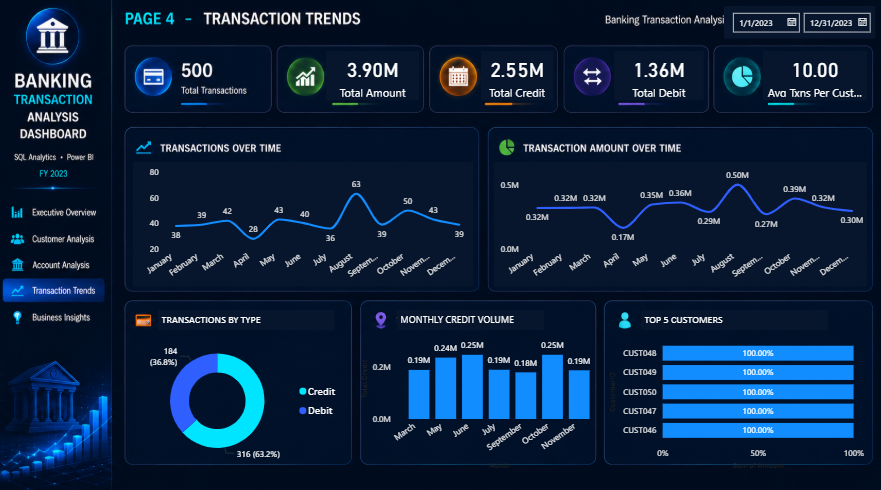

The dashboard page shown, as its layout file describes it:
{"tool":"powerbi","page":{"name":"Page 4","canvas":[1280,720],"ordinal":3},"visuals":[{"type":"lineChart","fields":{"Category":["banking_transactions.Month"],"Y":["CountNonNull(banking_transactions.TransactionID)"]},"box":[195.8,237.6,489.6,178.6],"z":0},{"type":"lineChart","fields":{"Category":["banking_transactions.Month"],"Y":["Sum(banking_transactions.Amount)"]},"box":[715.7,237.6,537.1,178.6],"z":1000},{"type":"donutChart","fields":{"Category":["banking_transactions.TransactionType"],"Y":["CountNonNull(banking_transactions.TransactionID)"]},"box":[196.5,478.7,305.7,206.6],"z":2000},{"type":"textbox","box":[231.8,450.2,253.6,28.6],"z":3000},{"type":"clusteredColumnChart","fields":{"Category":["banking_transactions.Month"],"Y":["banking_transactions.Total Credit"]},"box":[519.1,478.7,356.1,206.6],"z":4000},{"type":"textbox","box":[576.2,450.2,211.7,28.6],"z":5000},{"type":"hundredPercentStackedBarChart","fields":{"Category":["banking_transactions.CustomerID"],"Y":["Sum(banking_transactions.Amount)"]},"box":[875.2,478.7,378,206.6],"z":6000},{"type":"textbox","box":[927.2,450.2,268.8,28.6],"z":7000},{"type":"card","fields":{"Values":["banking_transactions.Total Credit"]},"box":[697.1,77.3,104.1,70.6],"z":8000},{"type":"card","fields":{"Values":["banking_transactions.Total Debit"]},"box":[888.6,77.3,129.3,70.6],"z":9000},{"type":"card","fields":{"Values":["banking_transactions.Avg Txns Per Customer"]},"box":[1103.6,77.3,149.5,70.6],"z":10000},{"type":"card","fields":{"Values":["banking_transactions.Total Amount"]},"box":[473.7,77.3,134.4,70.6],"z":11000},{"type":"slicer","fields":{"Values":["banking_transactions.TransactionDate"]},"box":[1046.5,13.4,218.4,47],"z":12000},{"type":"actionButton","box":[0,327.6,152.9,38.6],"z":13000},{"type":"actionButton","box":[1.7,445.1,151.2,38.6],"z":14000},{"type":"actionButton","box":[1.7,366.2,151.2,38.6],"z":15000},{"type":"actionButton","box":[0,288.9,151.2,38.6],"z":16000}]}

Visuals, with their boxes in screenshot pixels (x1, y1, x2, y2), scaled from the page's 1280x720 canvas onto the 881x490 screenshot:
lineChart - banking_transactions.Month x CountNonNull(banking_transactions.TransactionID): 135:162:472:283
lineChart - banking_transactions.Month x Sum(banking_transactions.Amount): 493:162:862:283
donutChart - banking_transactions.TransactionType x CountNonNull(banking_transactions.TransactionID): 135:326:346:466
textbox: 160:306:334:326
clusteredColumnChart - banking_transactions.Month x banking_transactions.Total Credit: 357:326:602:466
textbox: 397:306:542:326
hundredPercentStackedBarChart - banking_transactions.CustomerID x Sum(banking_transactions.Amount): 602:326:863:466
textbox: 638:306:823:326
card - banking_transactions.Total Credit: 480:53:551:101
card - banking_transactions.Total Debit: 612:53:701:101
card - banking_transactions.Avg Txns Per Customer: 760:53:862:101
card - banking_transactions.Total Amount: 326:53:419:101
slicer - banking_transactions.TransactionDate: 720:9:871:41
actionButton: 0:223:105:249
actionButton: 1:303:105:329
actionButton: 1:249:105:275
actionButton: 0:197:104:223
